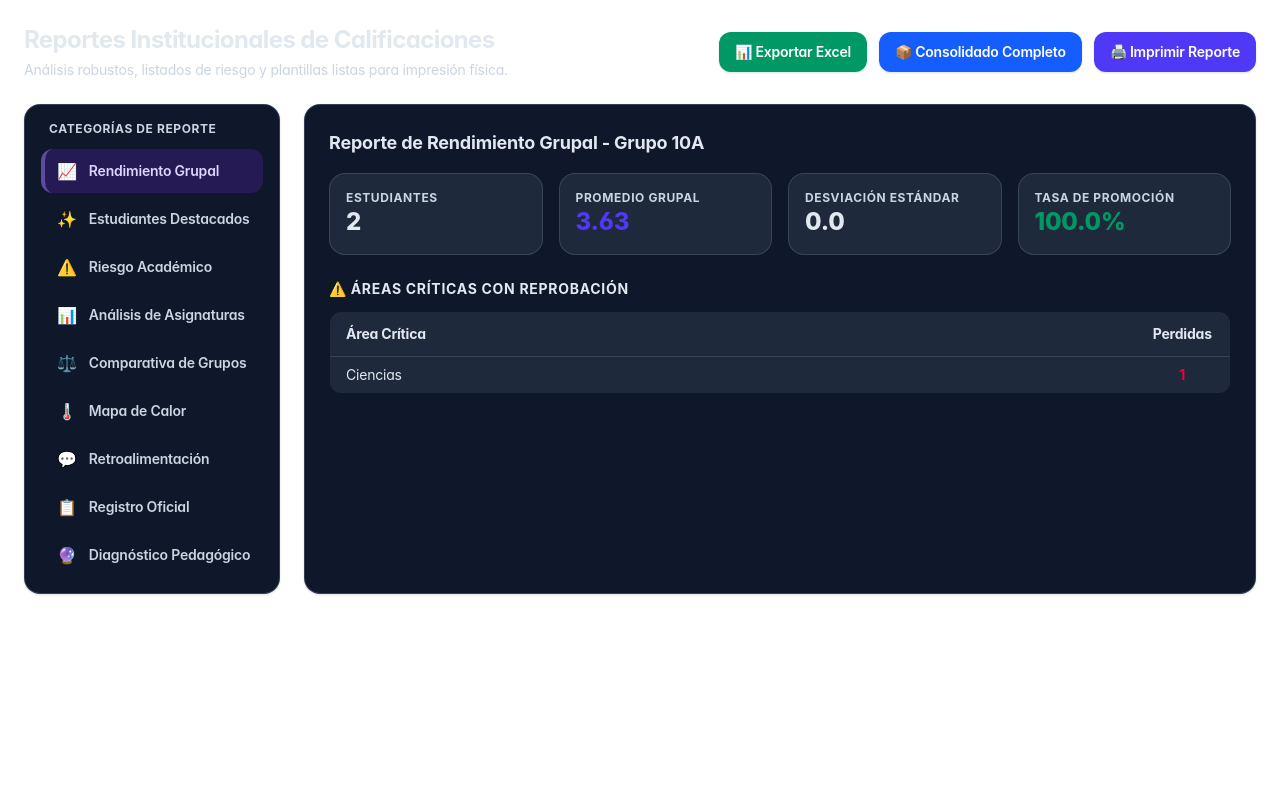
Test: ReportsTab › toggles between different report types on selection
Expected: the heading "Reporte de Rendimiento Grupal - Grupo 10A" is shown, [329,132,704,153]
Note: Click on "Estudiantes Destacados"
Click the text "Estudiantes Destacados" at (169, 219), box [89,209,250,229]
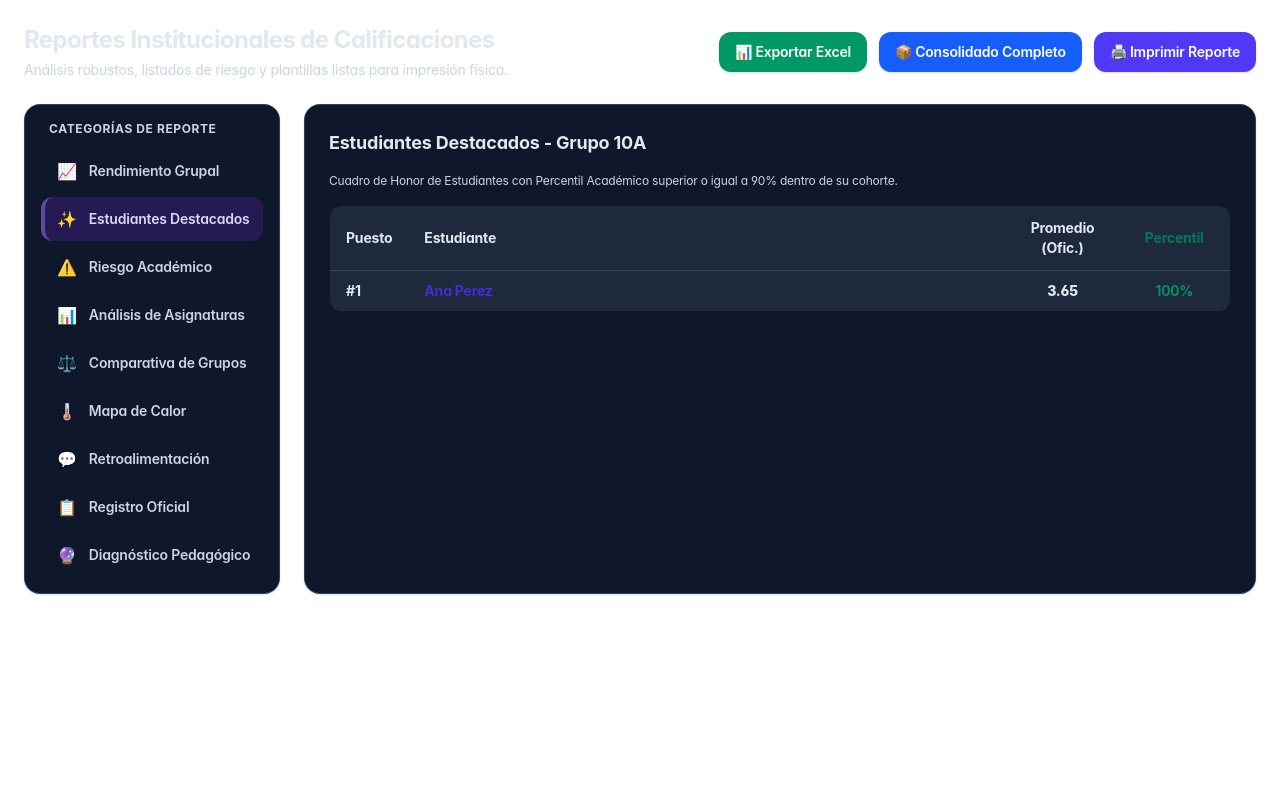
Expected: the heading "Estudiantes Destacados - Grupo 10A" is shown, [329,132,646,153]
Note: Click on "Riesgo Académico"
Click the text "Riesgo Académico" at (150, 267), box [89,257,212,277]
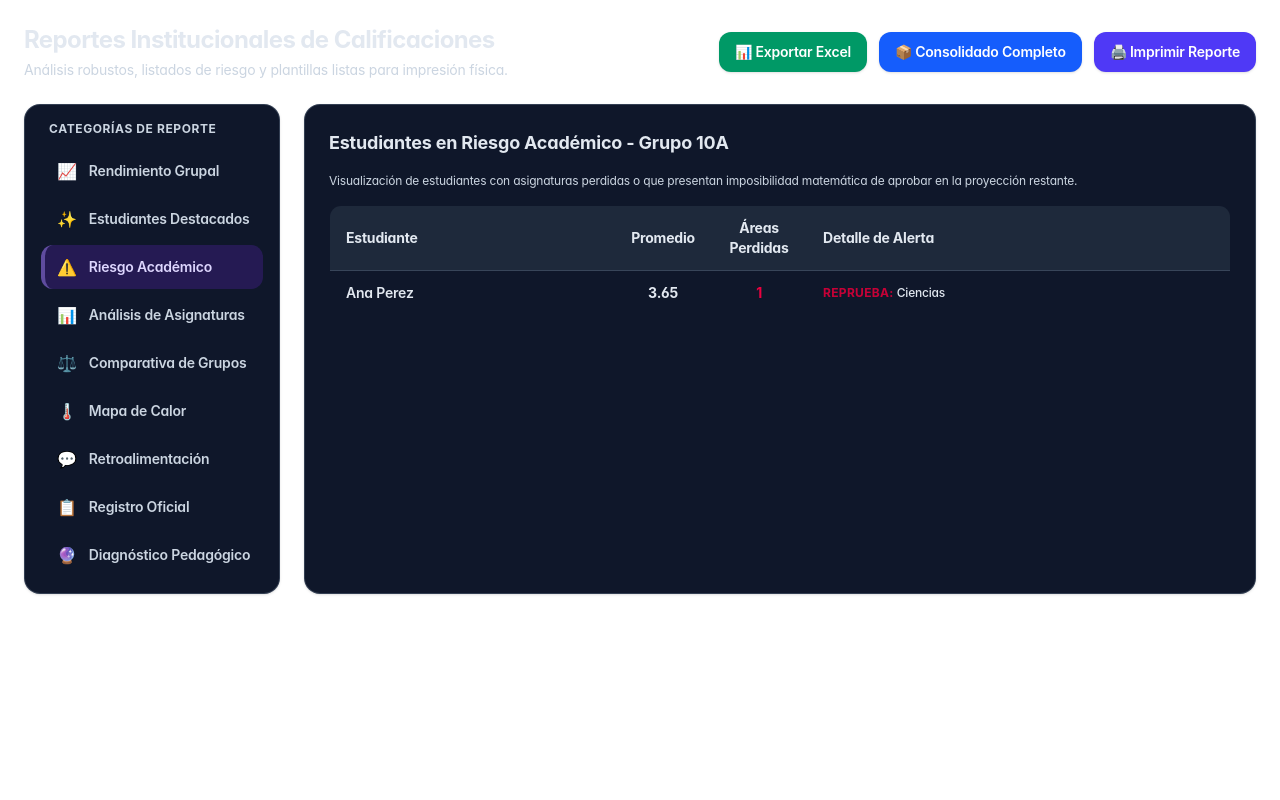
Expected: the heading "Estudiantes en Riesgo Académico - Grupo 10A" is shown, [329,132,729,153]
